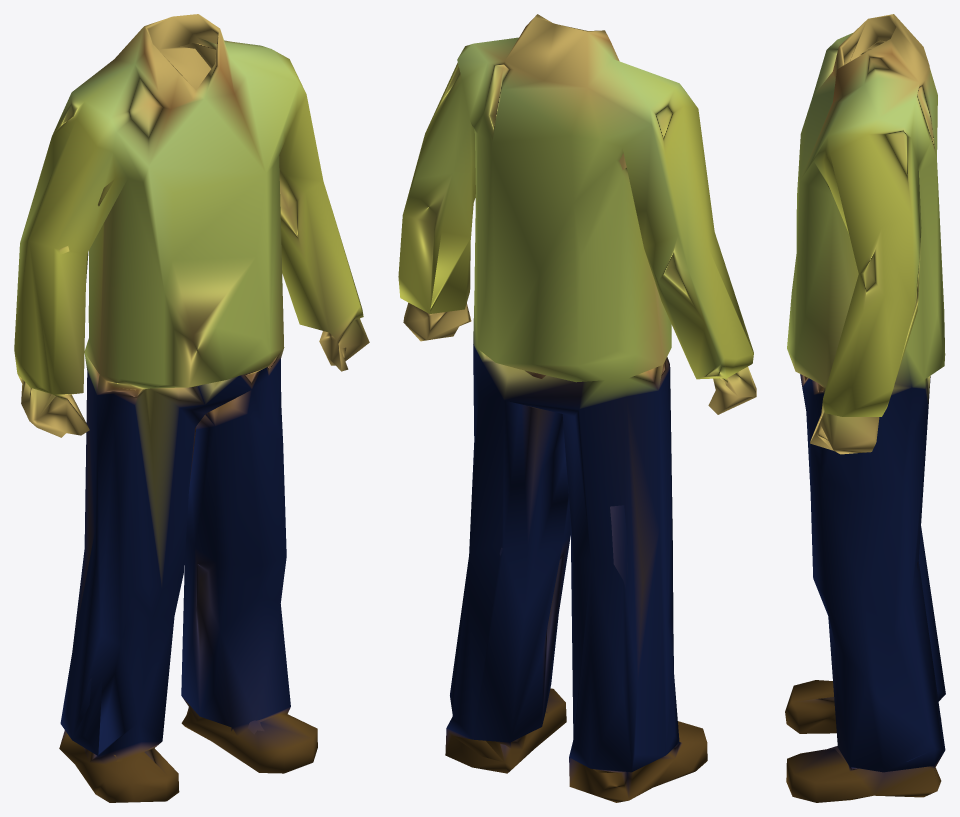
The model's file is gen3d-outfit-lod1.glb.
The picture shows the model from 3 angles, left to right: view 1: azimuth 30°, elevation 25°; view 2: azimuth 150°, elevation 25°; view 3: azimuth 270°, elevation 25°; orthographic projection. The views are drawn at different scales.
Visible parts, largest first — view 1: part_0; view 2: part_0; view 3: part_0.
Boxes of the visible parts, bbox=[...] form: part_0: bbox=[14, 14, 369, 802]; part_0: bbox=[398, 14, 756, 802]; part_0: bbox=[785, 14, 945, 802].
Bounding box in the file's own units: 0.4795 × 0.9991 × 0.2002.
